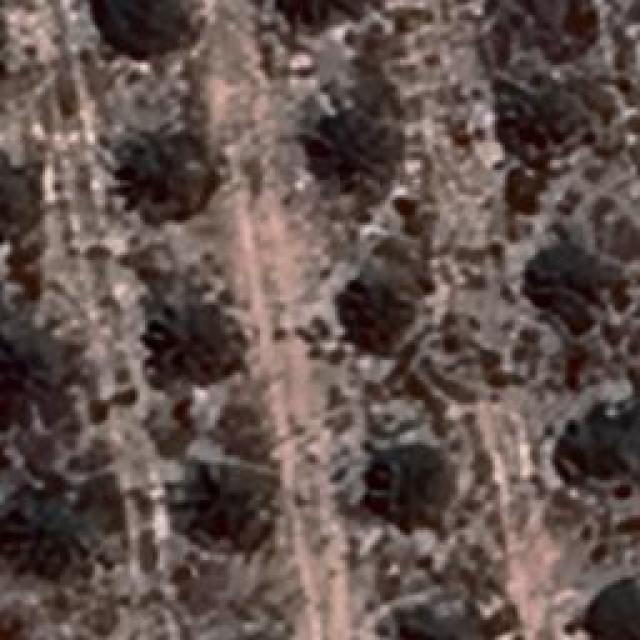PalmTree: (89, 85, 613, 609), (45, 61, 89, 530), (175, 460, 268, 540), (311, 102, 401, 180), (146, 306, 229, 384), (567, 415, 640, 490), (131, 142, 204, 212), (501, 81, 589, 139), (525, 247, 595, 315), (346, 264, 416, 332), (378, 450, 442, 518), (0, 322, 45, 418), (102, 0, 178, 48), (394, 600, 480, 640), (0, 158, 30, 244), (274, 0, 362, 28), (390, 617, 474, 640)
